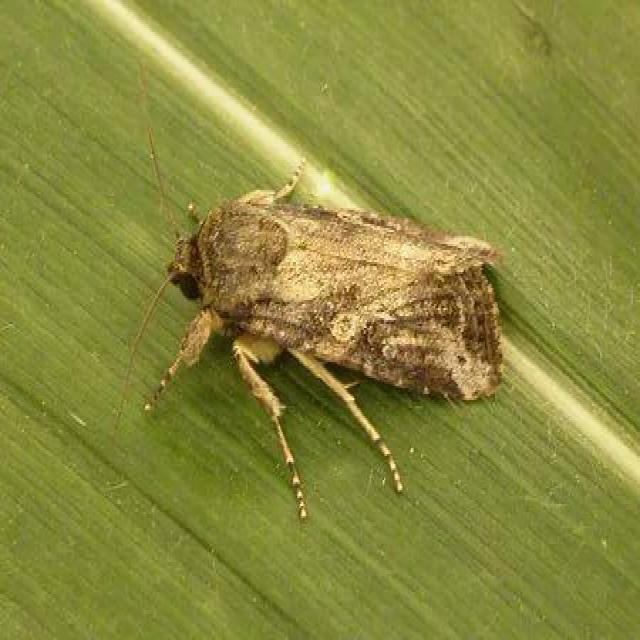BeetArmyWorm-Adult-: (106, 140, 522, 493)
